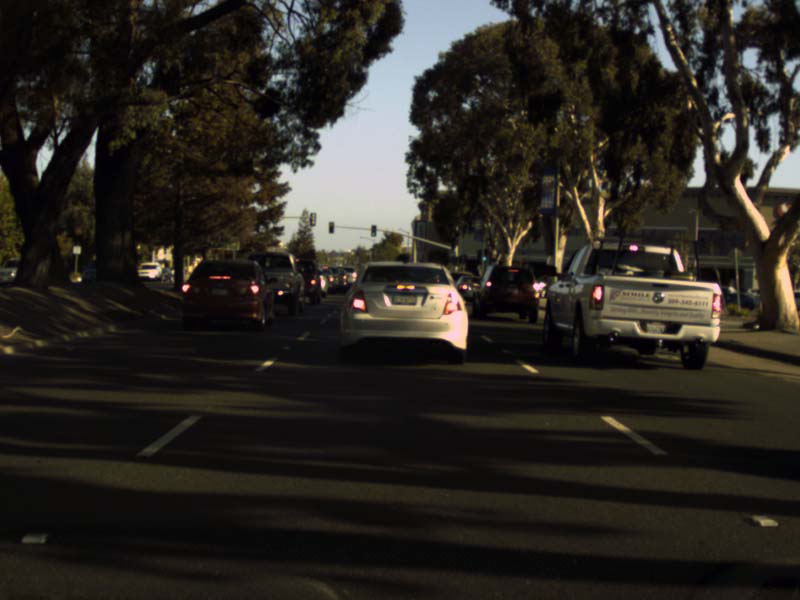Green: (371, 225, 376, 235), (482, 249, 486, 261)
Red: (329, 221, 333, 234)
